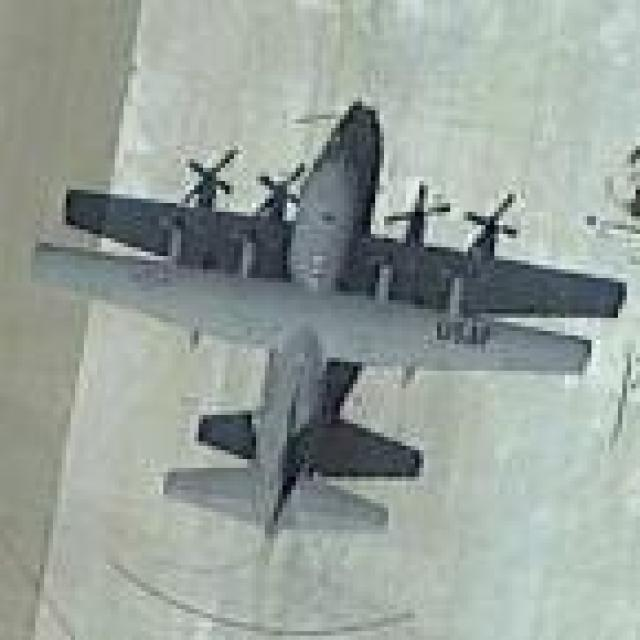C-130_TopDown: (31, 92, 628, 548)
